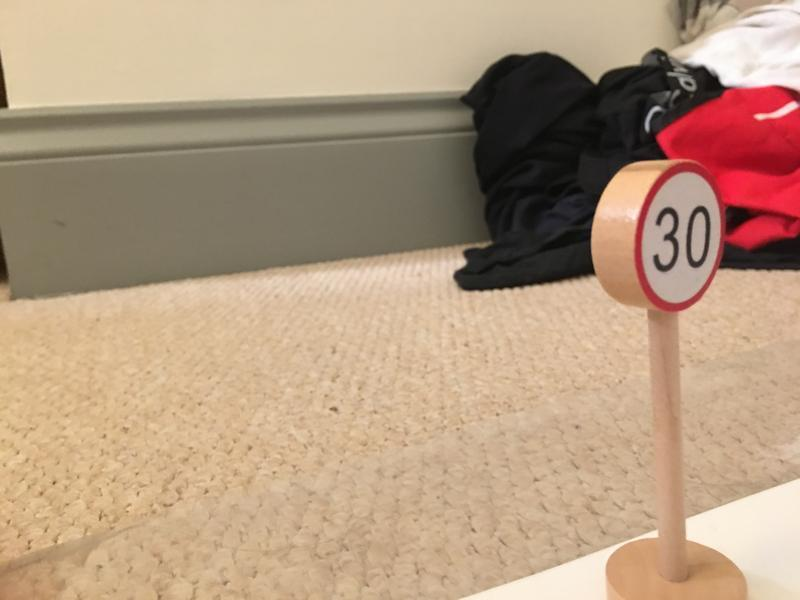Traffic_Sign_30: (637, 163, 721, 309)
